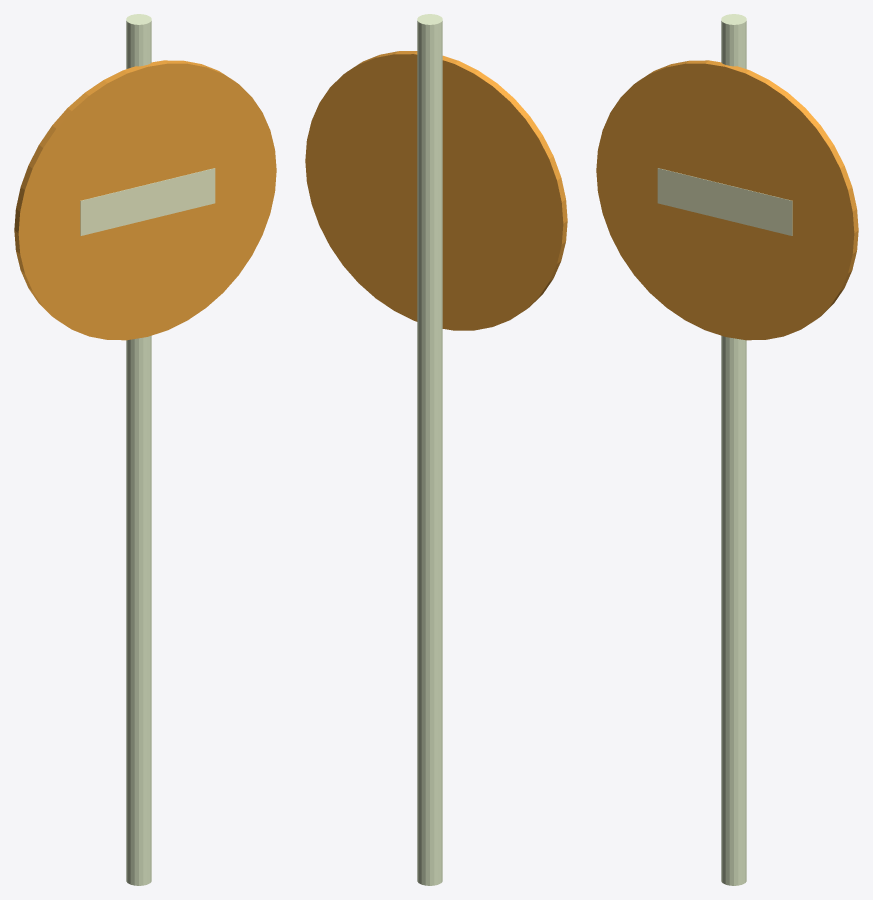
Rendered from sign_no_entry.glb.
3 views of the same model, side by side, from view 1: azimuth 30°, elevation 25°; view 2: azimuth 150°, elevation 25°; view 3: azimuth 330°, elevation 25° (orthographic).
Visible parts, largest first — view 1: plate_base_00, pole, layer_1_00; view 2: plate_base_00, pole; view 3: plate_base_00, pole, layer_1_00.
Part boxes in pixels (bbox=[...]): plate_base_00: bbox=[14, 60, 276, 340]; pole: bbox=[126, 14, 151, 885]; layer_1_00: bbox=[80, 168, 215, 235]; plate_base_00: bbox=[305, 51, 567, 330]; pole: bbox=[417, 14, 442, 885]; plate_base_00: bbox=[596, 60, 858, 340]; pole: bbox=[721, 14, 746, 885]; layer_1_00: bbox=[657, 168, 792, 235].
Bounding box in the file's own units: 0.69 × 2.2 × 0.071.
